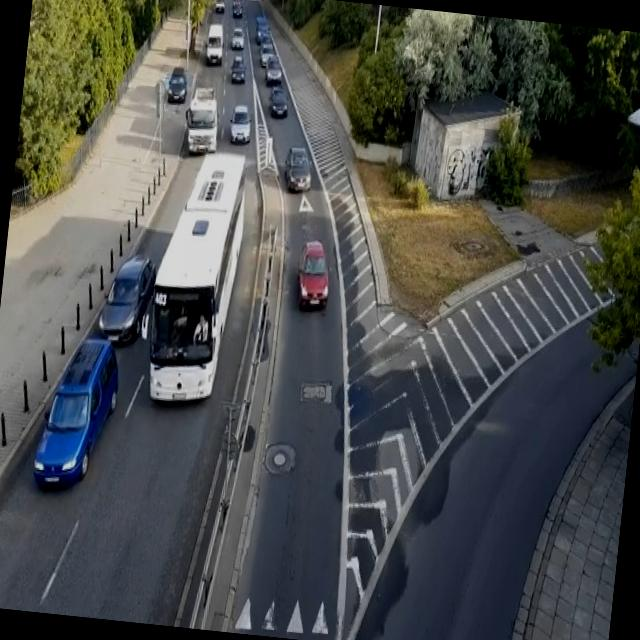bus: (137, 143, 242, 404)
car: (31, 333, 128, 495), (97, 254, 156, 348), (294, 238, 332, 312), (284, 146, 314, 194), (202, 18, 226, 68), (228, 106, 254, 148), (163, 66, 190, 104), (253, 15, 272, 46), (229, 56, 248, 84), (258, 30, 275, 60), (268, 95, 288, 118), (265, 66, 283, 86), (230, 28, 246, 50), (260, 50, 276, 68), (230, 0, 243, 19), (212, 0, 226, 13)
truck: (178, 88, 220, 158)
